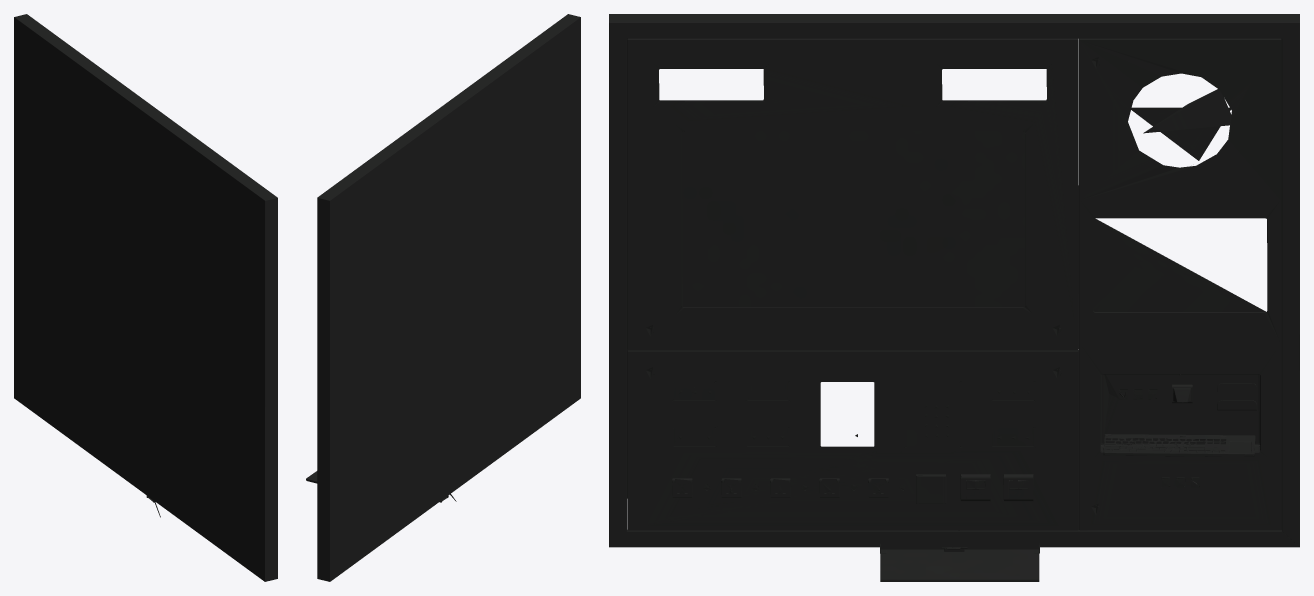
File: panel_control_surgery_room_b01.glb
3 views of the same model, side by side, from view 1: azimuth 30°, elevation 25°; view 2: azimuth 150°, elevation 25°; view 3: azimuth 270°, elevation 25° (orthographic). The views are drawn at different scales.
Parts seen in each view (by area): view 1: geometry_0; view 2: geometry_0; view 3: geometry_0.
Boxes of the visible parts, <box> form: geometry_0: <box>14,14,277,581</box>; geometry_0: <box>306,14,580,581</box>; geometry_0: <box>609,14,1299,581</box>.
Size of the model in its own units: 0.0518 by 0.3721 by 0.42.
1 material, 1 textured.
